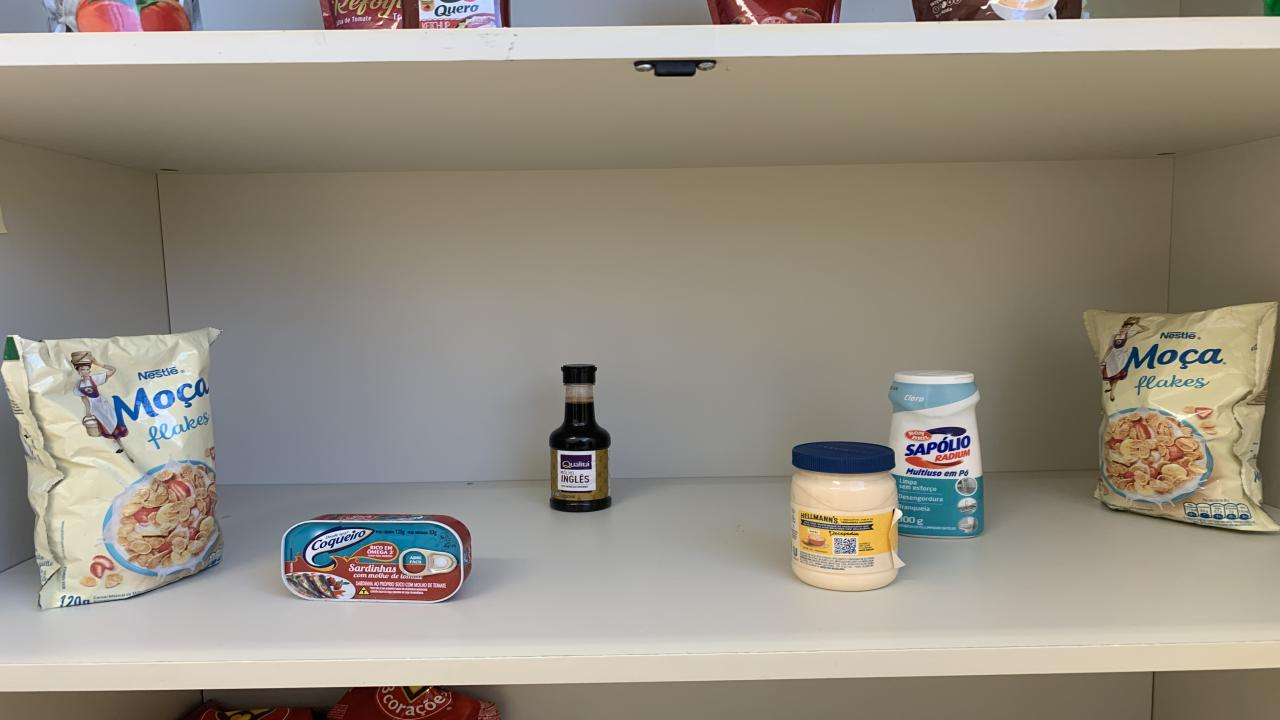Cleaner-Cleanup_Items: (887, 371, 987, 540)
Coffee-Pantry_Items: (911, 0, 1087, 22)
English_Sauce-Pantry_Items: (548, 365, 617, 515)
Flakes-Snacks: (0, 327, 221, 612), (1081, 303, 1280, 536)
Mayonnaise-Pantry_Items: (787, 442, 904, 594)
Tomato_Sauce-Pantry_Items: (315, 0, 505, 32), (701, 0, 850, 26)
Tuna_Can-Pantry_Items: (279, 514, 472, 605)
